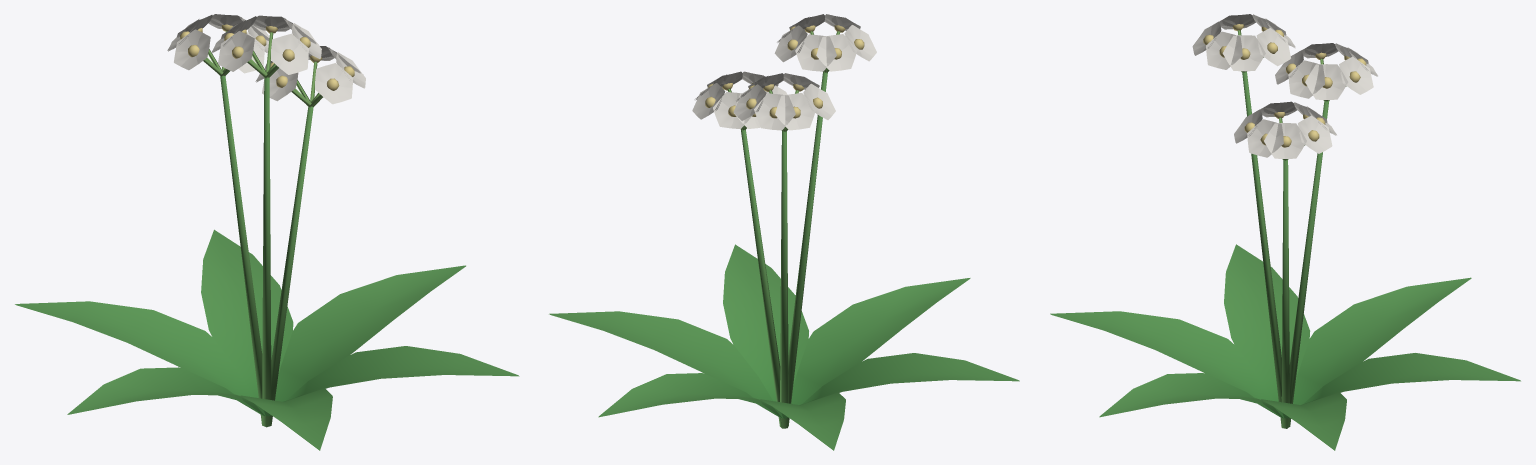
Rendered from ing_wild_garlic.glb.
3 renders of one model, left to right at view 1: azimuth 30°, elevation 25°; view 2: azimuth 150°, elevation 25°; view 3: azimuth 270°, elevation 25°, orthographic. The views are drawn at different scales.
Parts seen in each view (by area): view 1: ing_wild_garlic; view 2: ing_wild_garlic; view 3: ing_wild_garlic.
Boxes of the visible parts, x1,y1,x2,y2 form: ing_wild_garlic: (15, 14, 519, 450); ing_wild_garlic: (549, 14, 1019, 450); ing_wild_garlic: (1050, 14, 1520, 450).
Size of what is drawn, in the model's own units: 0.4925 by 0.4361 by 0.4765.
